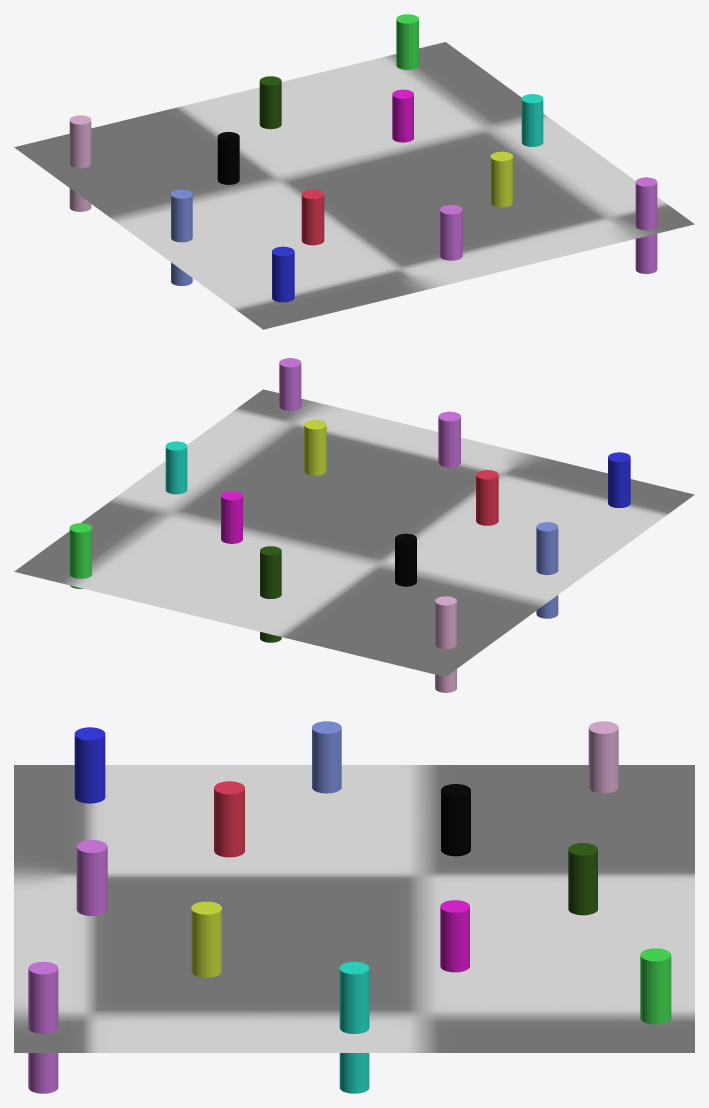
The model's file is DataExtractionTest.gltf.
3 views of the same model, one above another, from view 1: azimuth 30°, elevation 25°; view 2: azimuth 150°, elevation 25°; view 3: azimuth 270°, elevation 25° (orthographic). The views are drawn at different scales.
Parts seen in each view (by area): view 1: Cylinder.002; view 2: Cylinder.002; view 3: Cylinder.002.
Part boxes in pixels (x1,y1,x2,y2): Cylinder.002: [14, 14, 694, 329]; Cylinder.002: [14, 358, 694, 692]; Cylinder.002: [14, 721, 694, 1093].
Size of the model in its own units: 137 by 27.19 by 137.
Materials: 1 (1 with a texture image).
